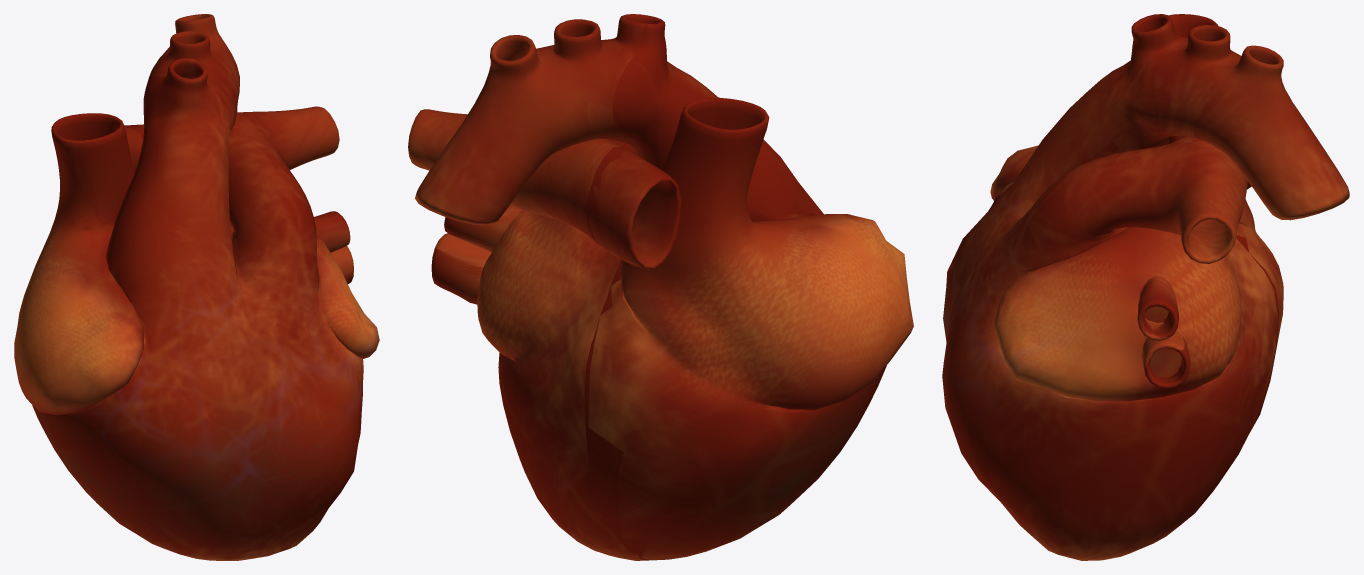
Rendered from heart.glb.
3 views of the same model, side by side, from view 1: azimuth 30°, elevation 25°; view 2: azimuth 150°, elevation 25°; view 3: azimuth 270°, elevation 25° (orthographic). The views are drawn at different scales.
Parts seen in each view (by area): view 1: Human Heart; view 2: Human Heart; view 3: Human Heart.
Part boxes in pixels (bbox=[...]): Human Heart: bbox=[14, 14, 379, 560]; Human Heart: bbox=[408, 14, 913, 560]; Human Heart: bbox=[942, 14, 1349, 560].
Bounding box in the file's own units: 12.42 × 16.28 × 11.5.
1 material, 1 textured.
